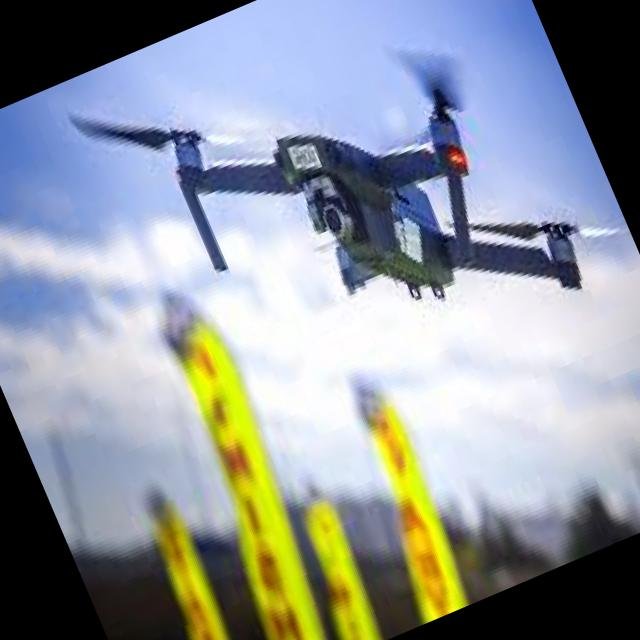drone: (67, 0, 640, 466)
